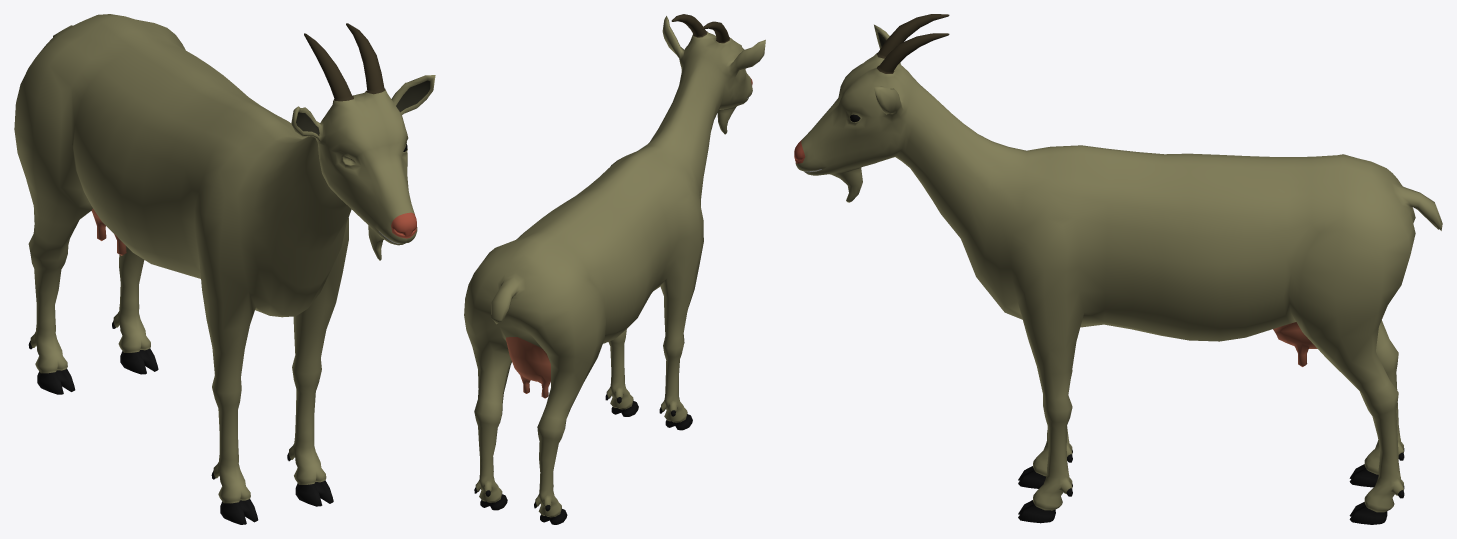
File: goat.obj
3 views of the same model, side by side, from view 1: azimuth 30°, elevation 25°; view 2: azimuth 150°, elevation 25°; view 3: azimuth 270°, elevation 25° (orthographic). The views are drawn at different scales.
Parts seen in each view (by area): view 1: goat; view 2: goat; view 3: goat.
Part boxes in pixels (x1,y1,x2,y2): goat: (14,14,435,524); goat: (464,14,765,524); goat: (794,14,1442,524).
Bounding box in the file's own units: 0.2885 × 0.8458 × 1.04.
